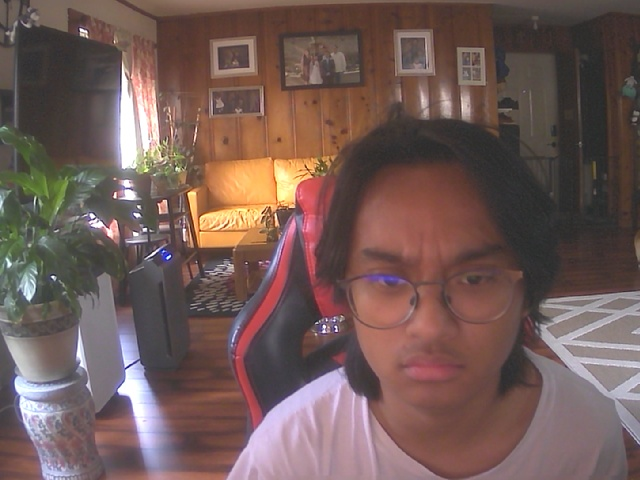anger: (326, 126, 539, 413)
